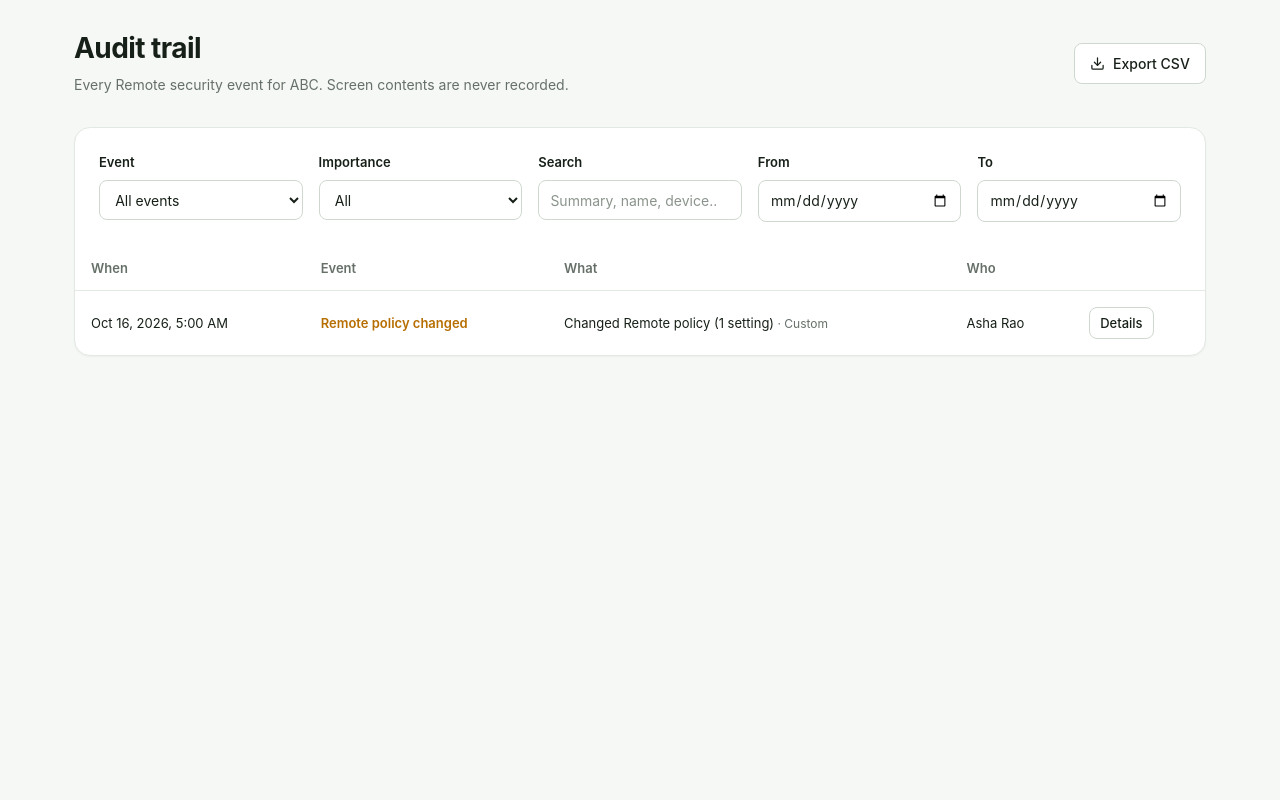
Audit trail page › lists entries and shows a change as old -> new in the details
The width and height of the screenshot is (1280, 800).
Expected: the text "Changed Remote policy (1 setting)" is shown, [564,315,774,331]
Click the button "Details". click: (1121, 323)
box: [1089,307,1154,339]
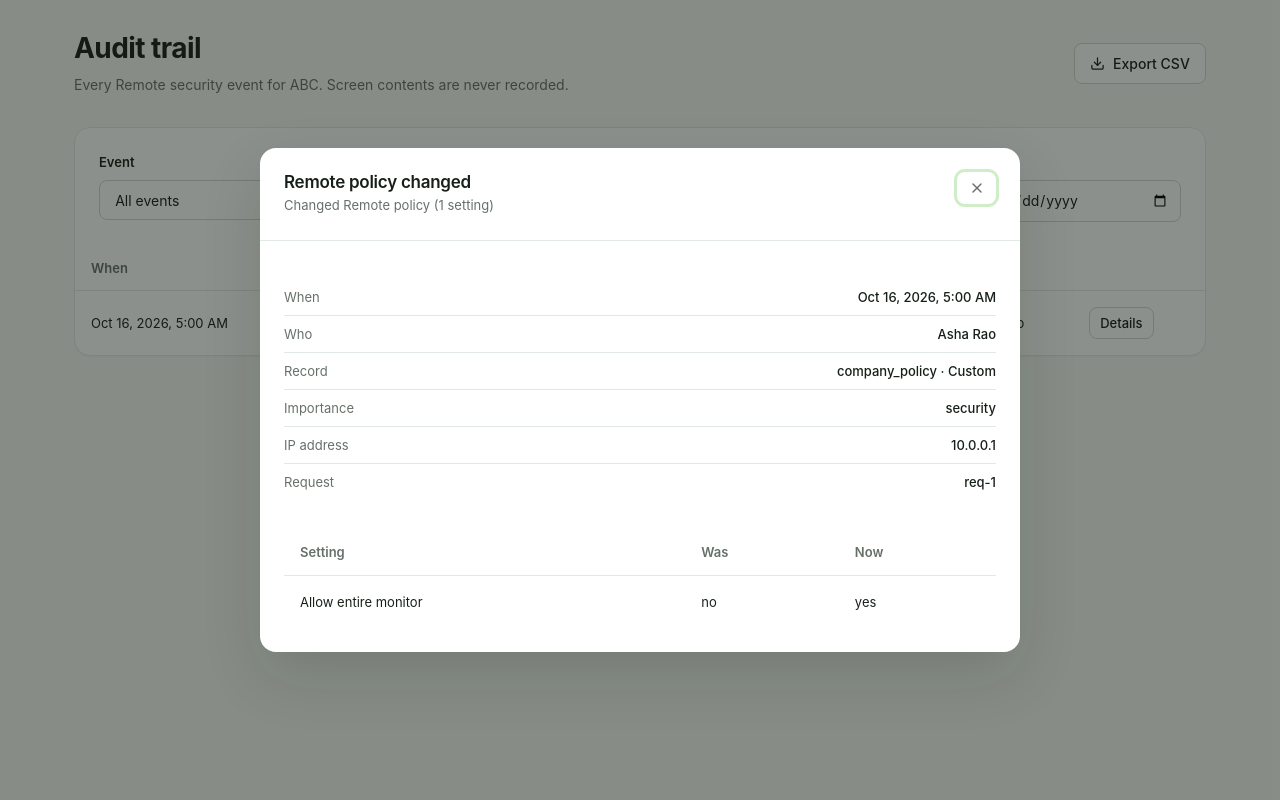
Expected: the text "Allow entire monitor" is shown, [284,575,685,628]
Expected: the text "no" is shown, [685,575,839,628]
Expected: the text "yes" is shown, [839,575,996,628]
